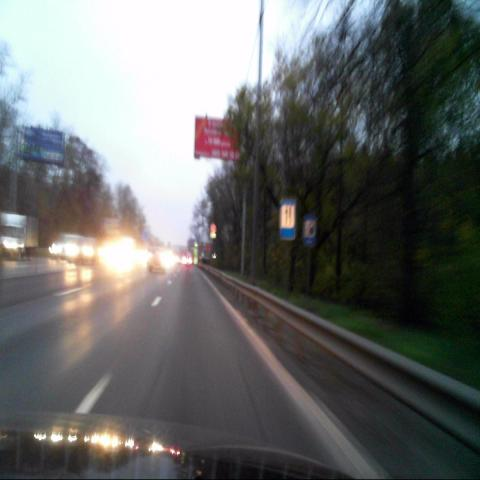7_7: (280, 199, 296, 240)
